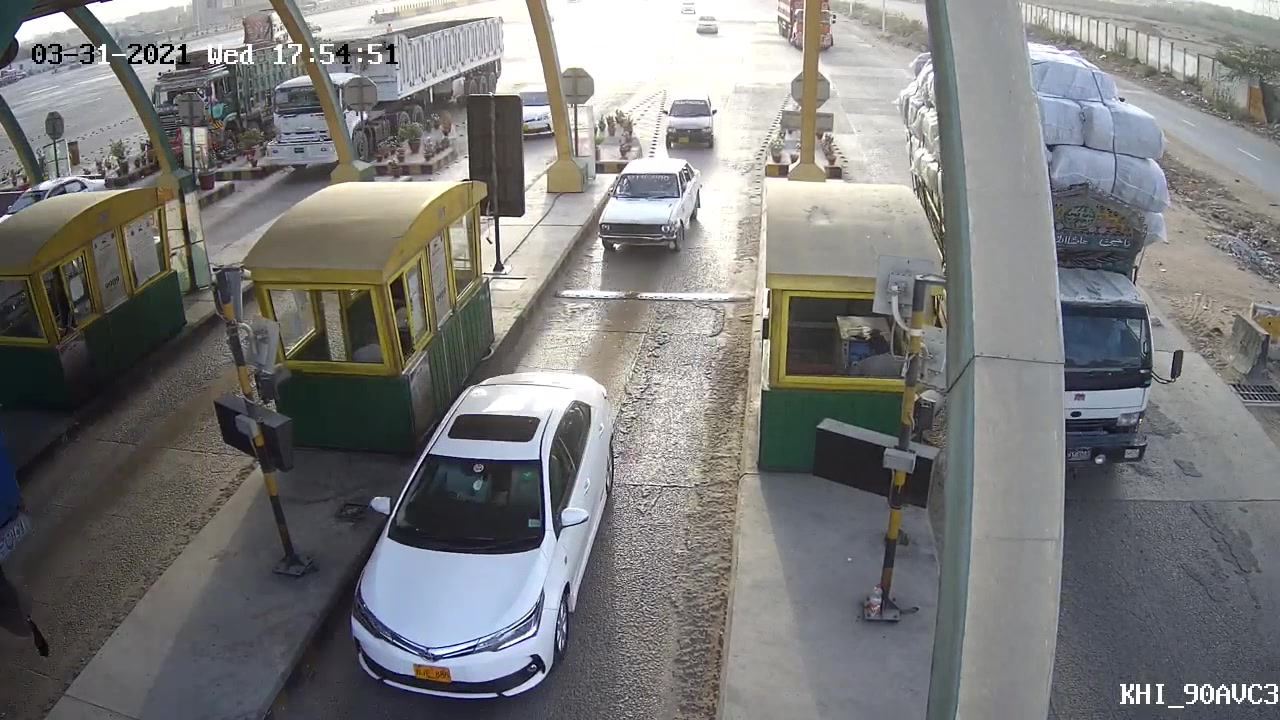F1: (345, 367, 623, 703), (595, 153, 709, 254)
